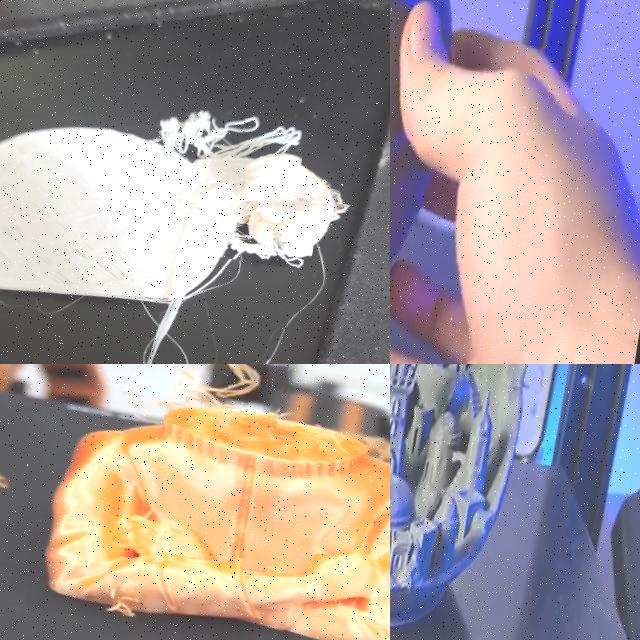spaghetti: (135, 95, 310, 189), (166, 364, 289, 440), (218, 220, 316, 272), (0, 448, 29, 495)
